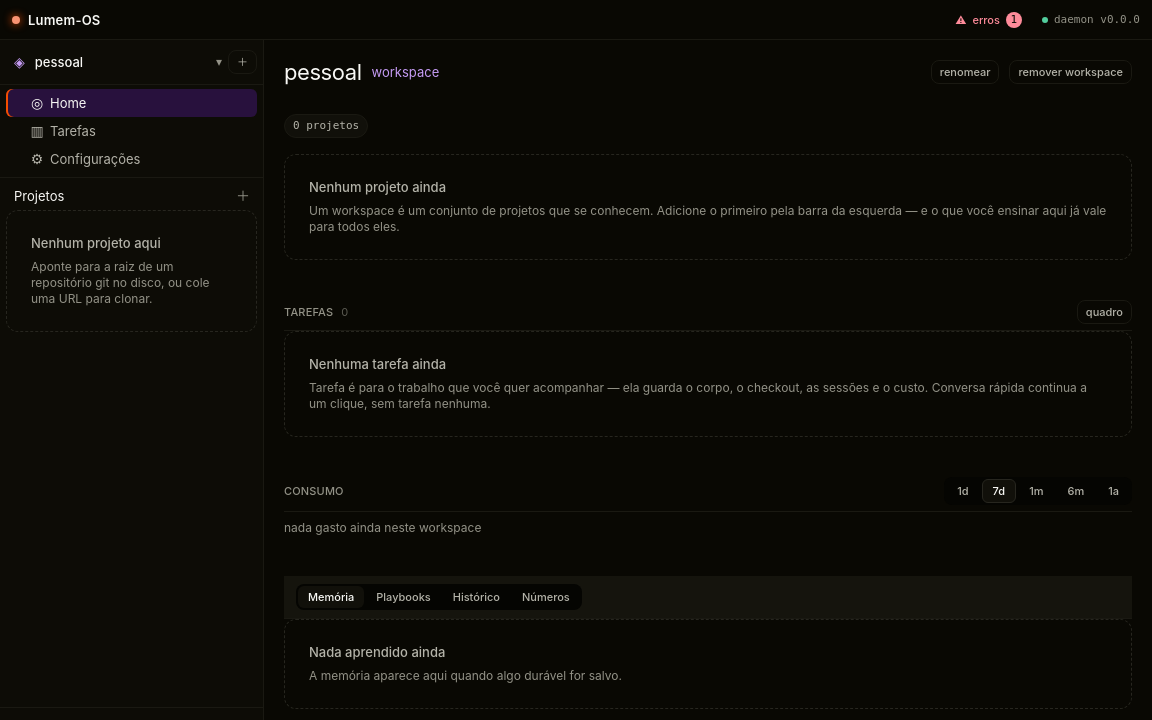
Test case: o campo que aceita as duas coisas › diz sem TLS quando o transporte é http
Click the button named "adicionar projeto" at (243, 196), box [231,184,255,208]
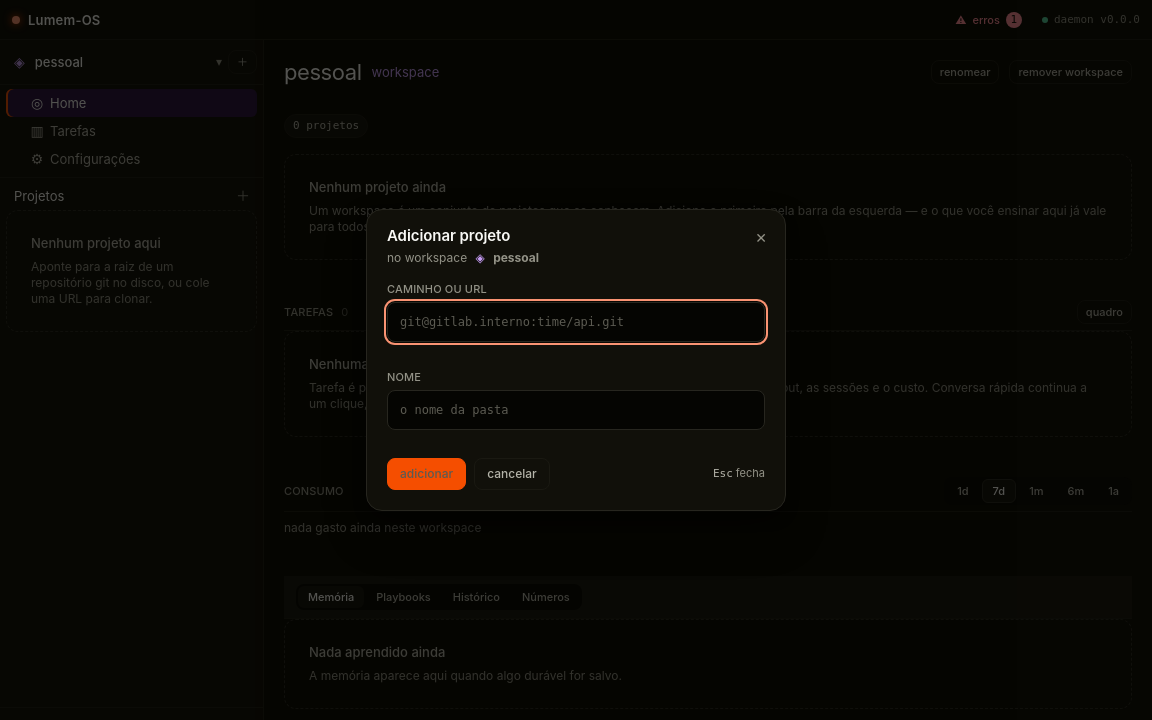
Type "http://git.interno/a/b.git" into the field labelled "Caminho ou URL" at (576, 322), box [387,302,765,342]
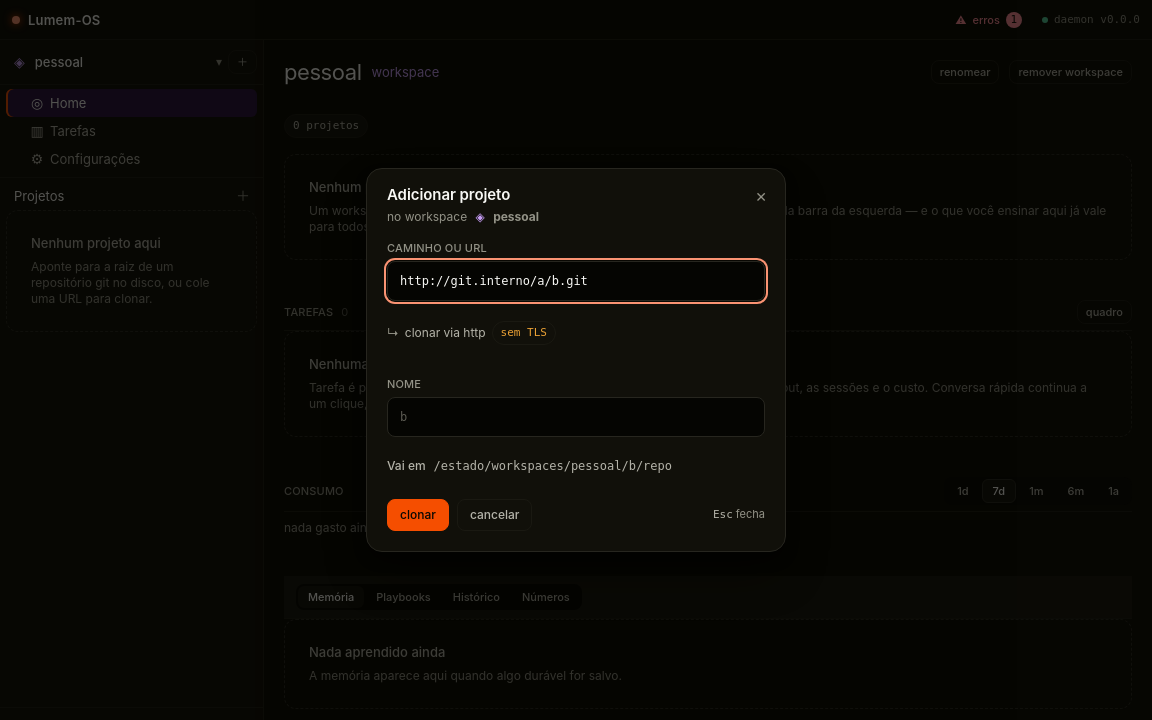
Now the text "sem TLS" is shown, box [492,321,556,345]
